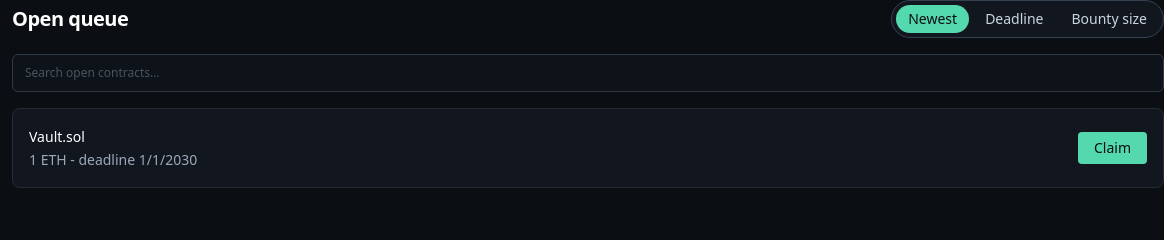
Scenario: QueueList claim errors › says when the bounty is not funded on-chain yet
Click the button "Claim" at [1112, 148], box x1=1078 y1=132 x2=1147 y2=164
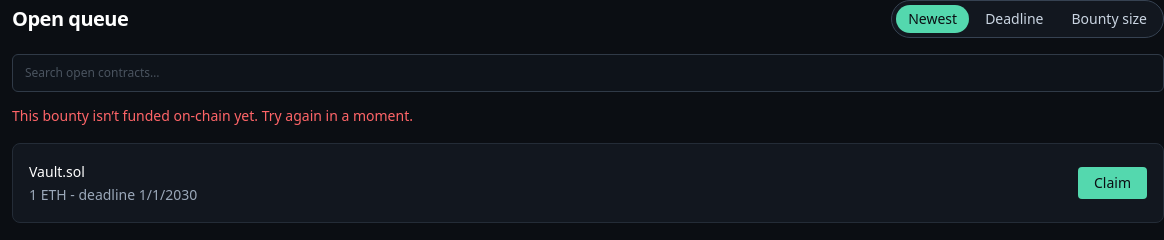
Result: the text "isn’t funded on-chain yet" is shown at x1=12 y1=106 x2=413 y2=125
